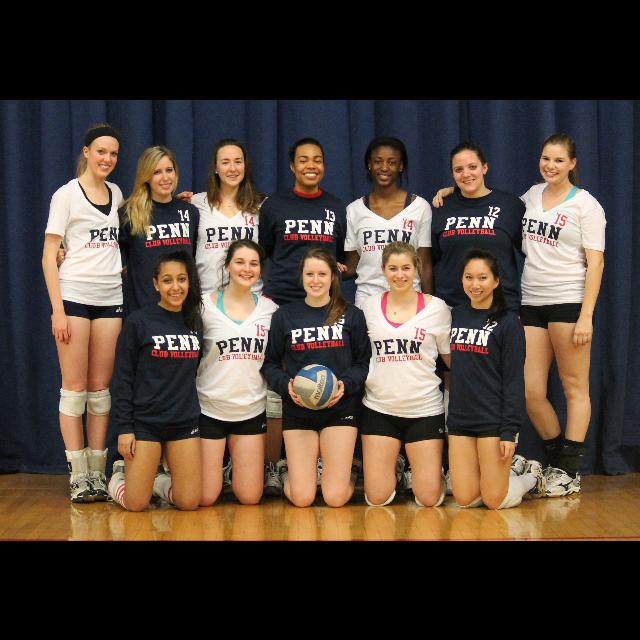head: (152, 252, 192, 306), (461, 249, 501, 303), (83, 122, 121, 178), (539, 130, 579, 183), (379, 240, 418, 292), (449, 142, 489, 192), (140, 145, 178, 195), (224, 238, 262, 286), (368, 136, 404, 186), (300, 248, 336, 298), (290, 138, 324, 185), (214, 138, 246, 186)
person: (430, 129, 610, 503), (38, 120, 195, 508), (49, 144, 203, 508), (425, 137, 535, 501), (178, 133, 276, 507), (255, 134, 351, 498), (340, 132, 436, 496), (260, 243, 374, 512), (444, 243, 550, 513), (354, 238, 456, 510), (105, 246, 207, 514), (192, 236, 284, 508)
